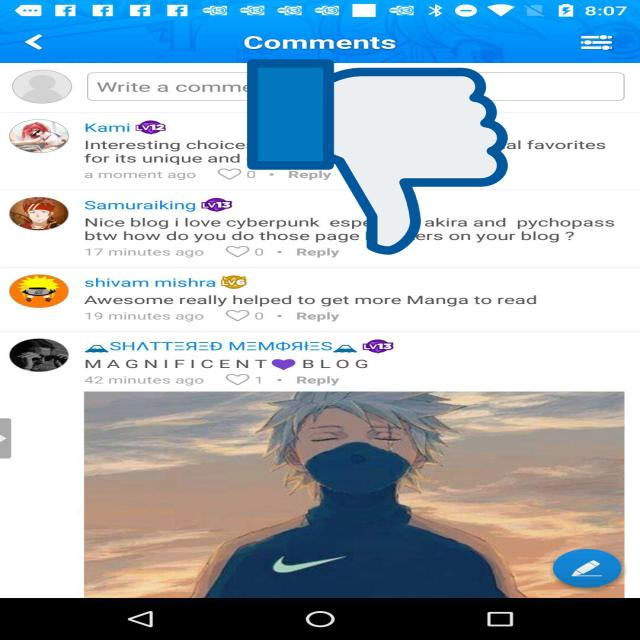obstruction: (247, 55, 508, 259)
